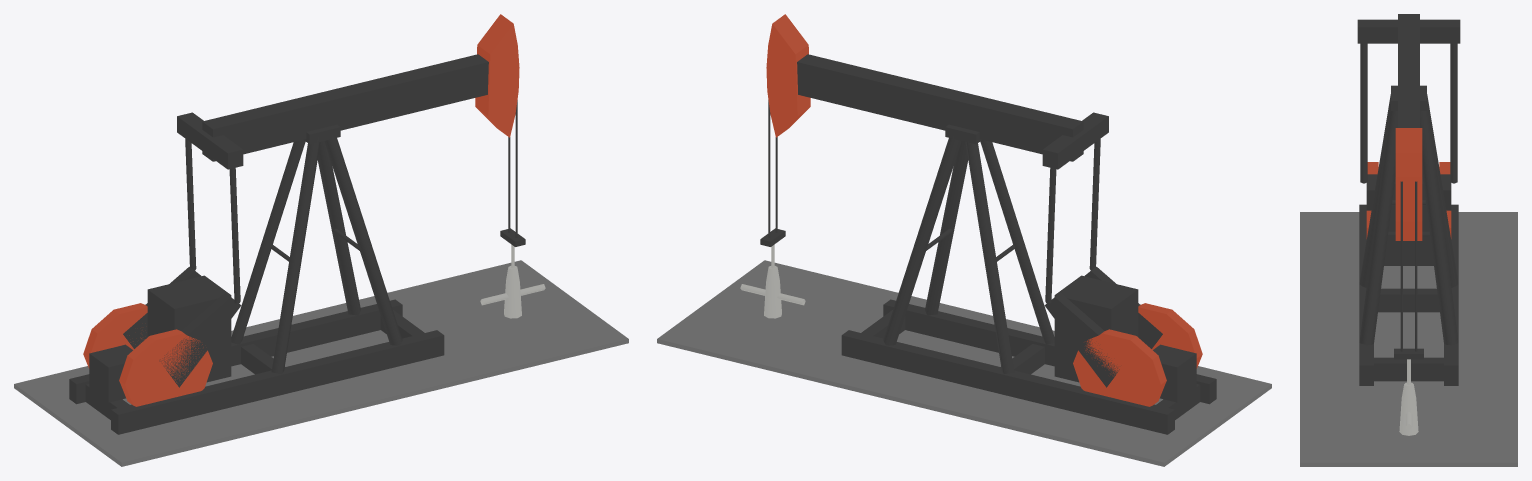
The model's file is Blender_PumpJack_1.glb.
The picture shows the model from 3 angles, left to right: view 1: azimuth 30°, elevation 25°; view 2: azimuth 150°, elevation 25°; view 3: azimuth 270°, elevation 25°; orthographic projection.
Parts seen in each view (by area): view 1: Blender_PumpJack_1; view 2: Blender_PumpJack_1; view 3: Blender_PumpJack_1.
Boxes of the visible parts, left/top/right/bottom form: Blender_PumpJack_1: left=14, top=14, right=628, bottom=466; Blender_PumpJack_1: left=657, top=14, right=1271, bottom=466; Blender_PumpJack_1: left=1300, top=14, right=1517, bottom=466.
Size of the model in its own units: 9.8 by 5.57 by 3.6.
